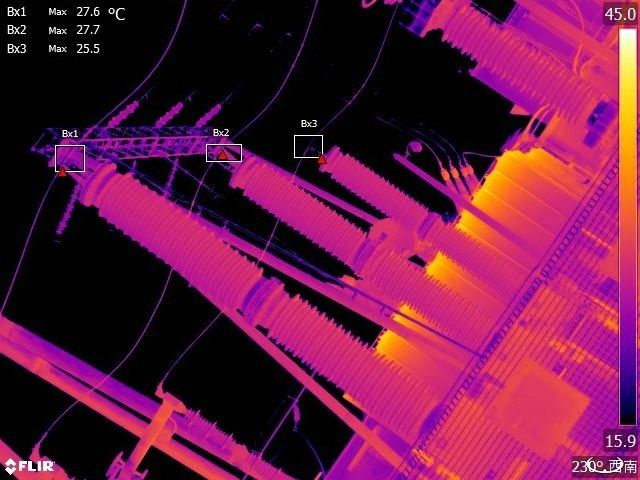current transformer: (395, 1, 608, 137)
post insulator: (179, 404, 297, 480)
potential transformer: (46, 156, 444, 421), (205, 140, 495, 339), (303, 140, 526, 292)
switch: (103, 378, 188, 480)
